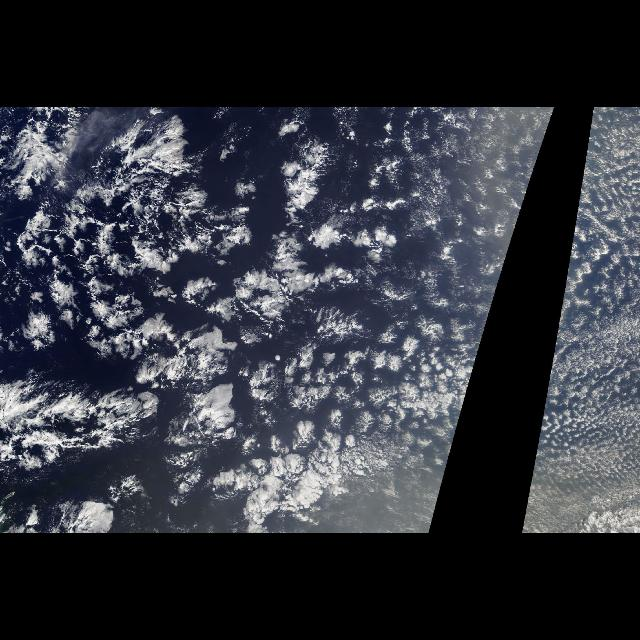Fish: (8, 351, 162, 494)
Flower: (1, 108, 554, 502), (546, 114, 638, 394)
Sugar: (558, 107, 640, 313), (478, 107, 556, 313)
